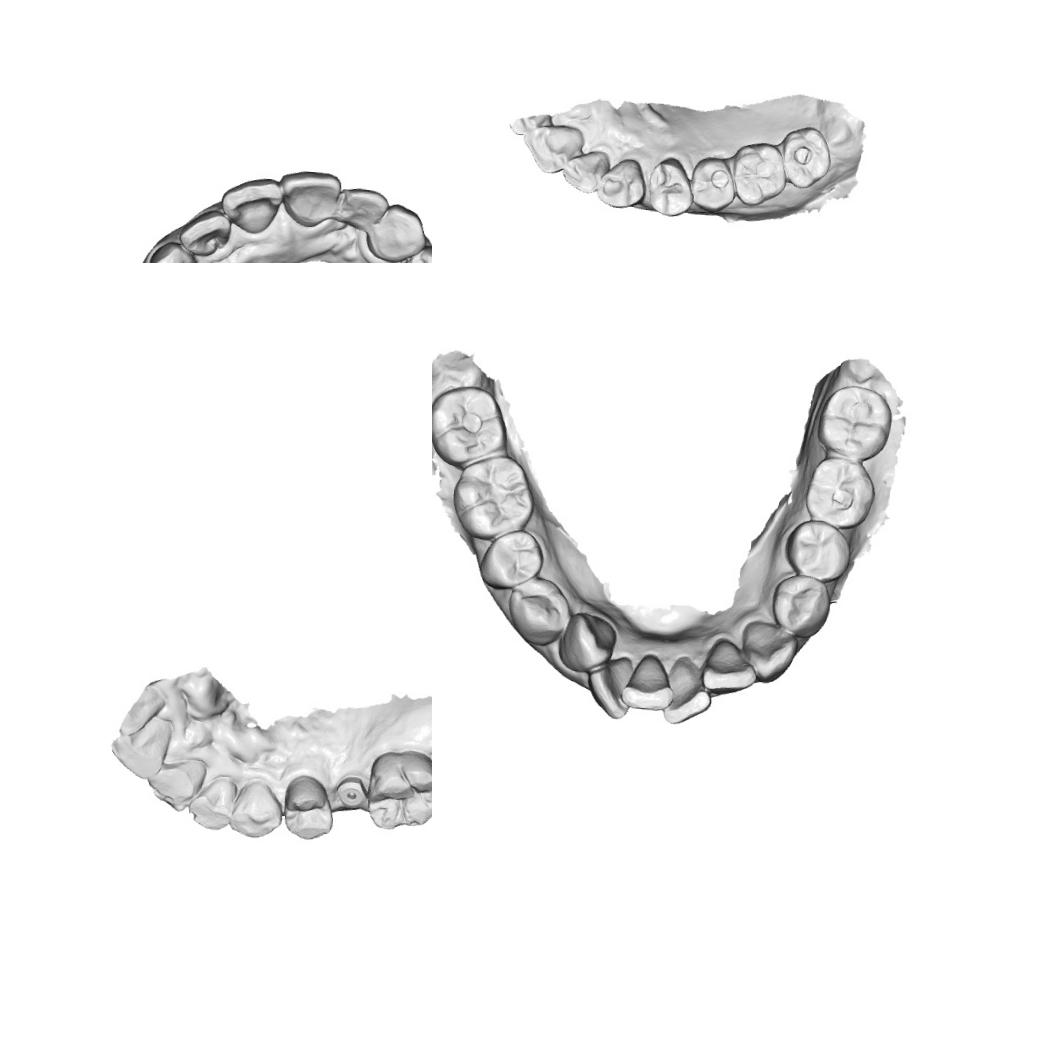canine: (739, 616, 800, 685), (554, 608, 617, 673), (366, 200, 429, 263), (228, 776, 286, 841), (594, 154, 648, 210), (145, 237, 205, 263)
implant: (336, 772, 368, 812)
incisor: (105, 712, 174, 781), (216, 172, 284, 236), (276, 166, 344, 230), (657, 656, 714, 728), (518, 120, 586, 178), (145, 752, 208, 814), (617, 652, 677, 712), (696, 635, 758, 693), (582, 659, 638, 720), (185, 771, 239, 832), (176, 204, 234, 260), (558, 146, 610, 196), (336, 184, 390, 232)
molar: (443, 453, 540, 542), (432, 380, 512, 470), (814, 382, 894, 460), (363, 746, 432, 834), (800, 452, 876, 530), (727, 138, 791, 210), (776, 122, 834, 192)
premolar: (476, 524, 546, 592), (504, 576, 570, 646), (782, 516, 850, 583), (276, 771, 336, 842), (768, 568, 830, 636), (644, 154, 696, 219), (688, 152, 738, 214), (389, 240, 432, 263)
